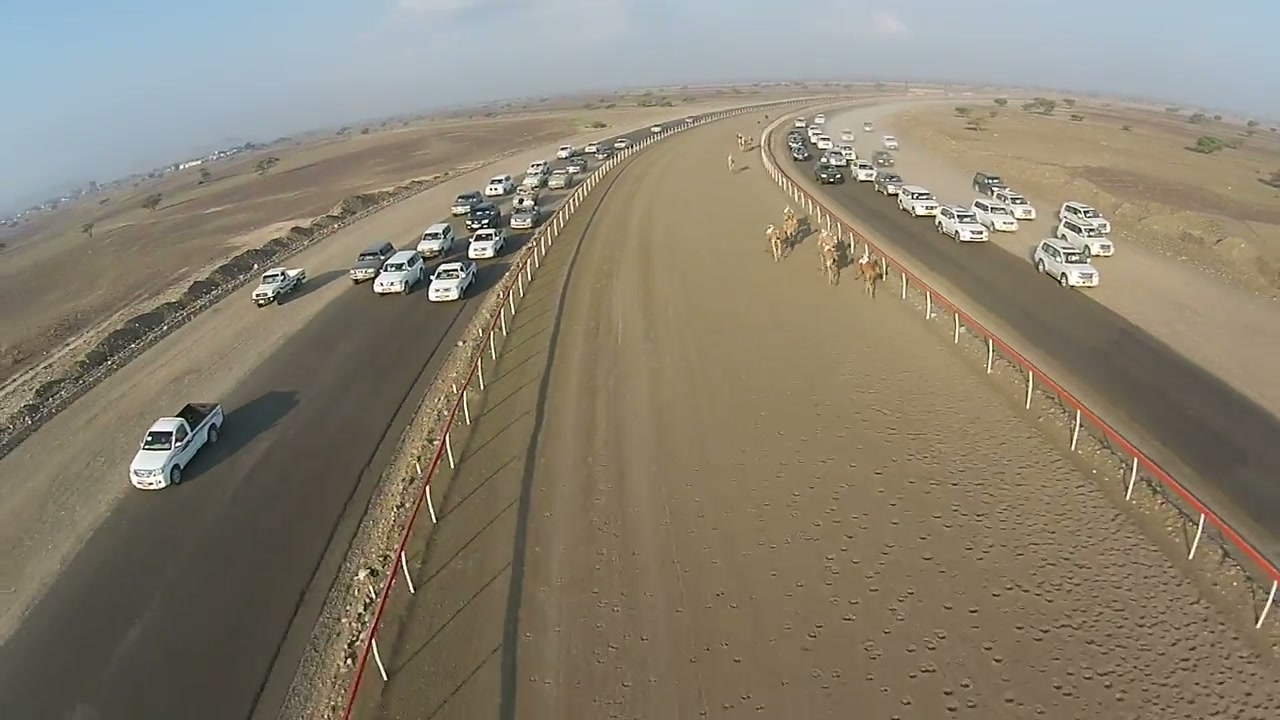animal_foot_print: (786, 335, 1259, 719)
